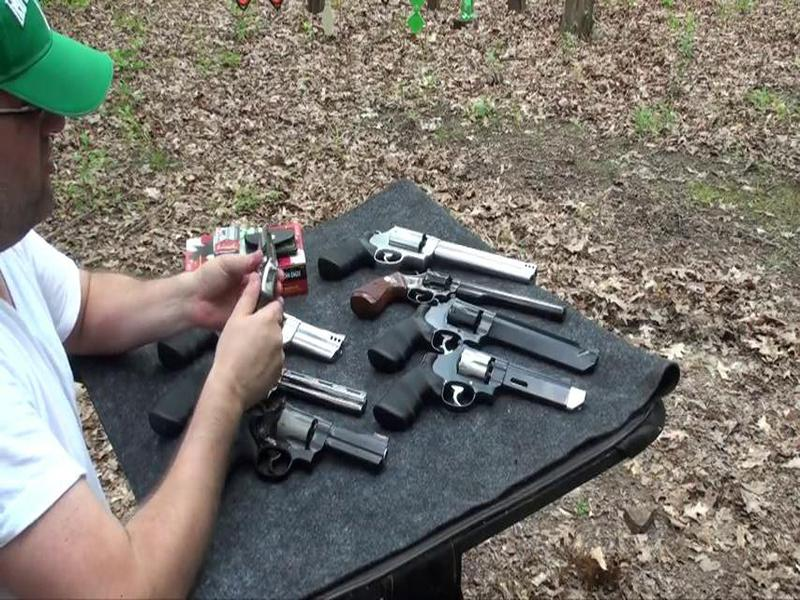Revolver: (351, 263, 584, 332)
